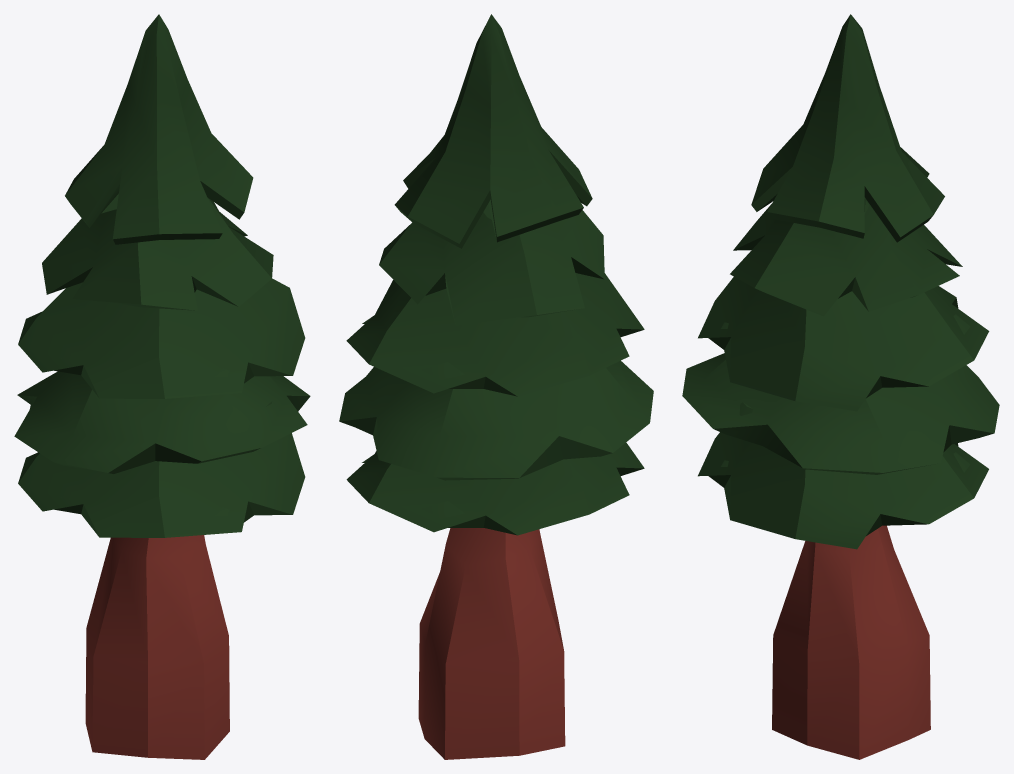
Rendered from tree2.fbx.
The picture shows the model from 3 angles, left to right: view 1: azimuth 30°, elevation 25°; view 2: azimuth 150°, elevation 25°; view 3: azimuth 270°, elevation 25°; orthographic projection.
Parts seen in each view (by area): view 1: Cylinder.021; view 2: Cylinder.021; view 3: Cylinder.021.
Boxes of the visible parts, x1,y1,x2,y2 form: Cylinder.021: [14, 14, 310, 759]; Cylinder.021: [339, 14, 653, 759]; Cylinder.021: [682, 14, 999, 759].
Size of the model in its own units: 334 by 872 by 352.
